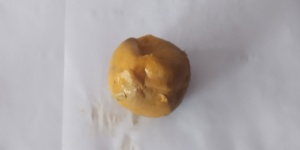BAD: (109, 35, 190, 116)
